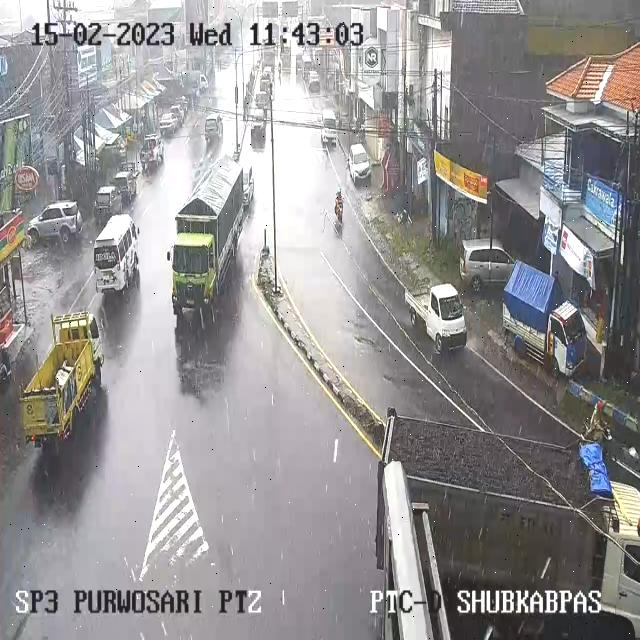Bus: (92, 218, 151, 300), (402, 283, 465, 357)
Car: (460, 242, 524, 290), (26, 201, 83, 247), (94, 185, 124, 225), (112, 167, 140, 205), (138, 134, 164, 172), (347, 144, 371, 184), (320, 111, 338, 145), (204, 112, 224, 142), (242, 160, 255, 205), (159, 112, 180, 134), (170, 104, 186, 126), (306, 70, 321, 93), (254, 89, 270, 109), (252, 108, 266, 130), (261, 49, 276, 69), (175, 96, 188, 116), (197, 74, 209, 94), (301, 53, 313, 73), (296, 50, 306, 69)
Motorbike: (580, 406, 608, 448), (330, 184, 349, 228)
Truck: (364, 426, 640, 636), (20, 312, 104, 448), (179, 166, 242, 322), (502, 262, 586, 379), (259, 72, 273, 94)
